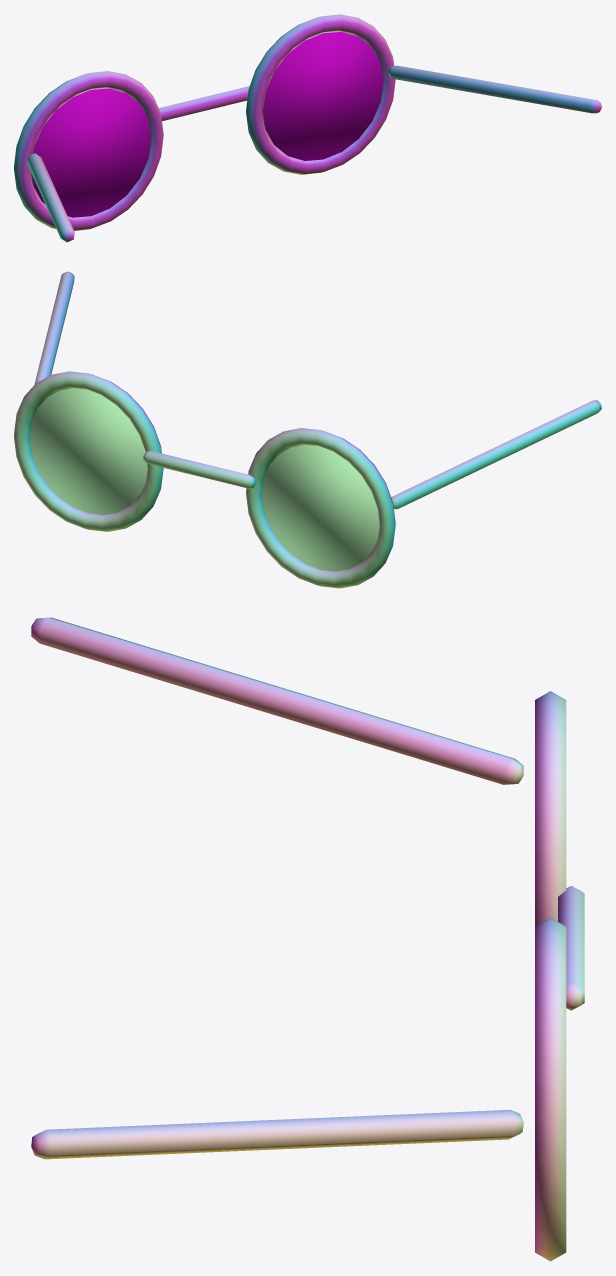
File: acc_glasses.glb
3 views of the same model, one above another, from view 1: azimuth 30°, elevation 25°; view 2: azimuth 150°, elevation 25°; view 3: azimuth 270°, elevation 25° (orthographic). The views are drawn at different scales.
Parts seen in each view (by area): view 1: glasses; view 2: glasses; view 3: glasses.
Boxes of the visible parts, x1=… form: glasses: x1=14, y1=14, x2=601, y2=242; glasses: x1=14, y1=271, x2=601, y2=588; glasses: x1=31, y1=617, x2=584, y2=1261.
Size of the model in its own units: 0.2413 by 0.067 by 0.1073.
